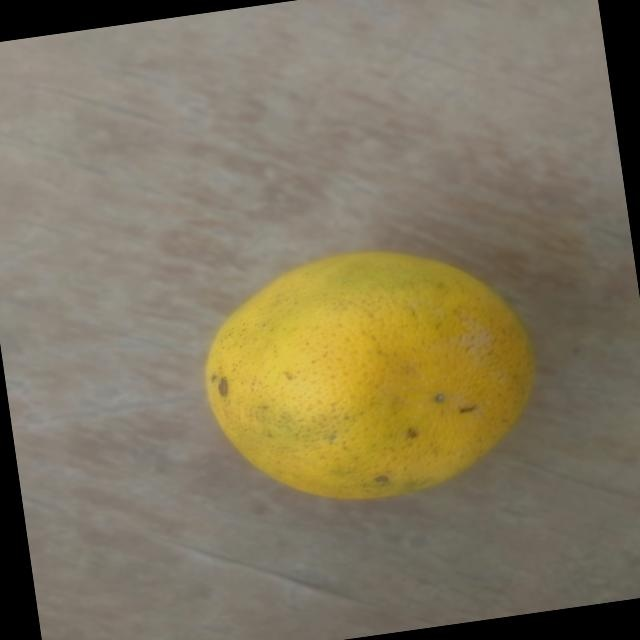agrume: (191, 225, 553, 521)
